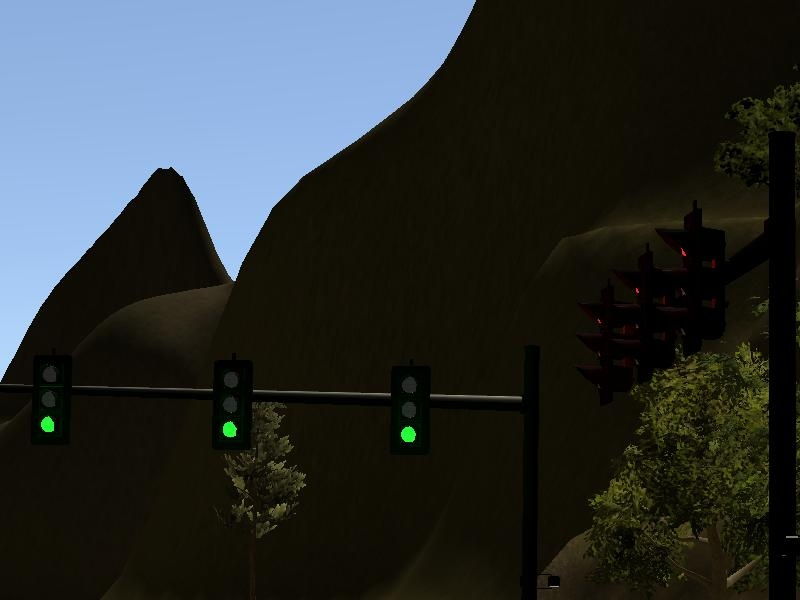GREEN: (389, 366, 429, 452), (211, 361, 251, 447), (29, 355, 69, 441)
